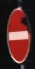No entry: (6, 7, 30, 63)
